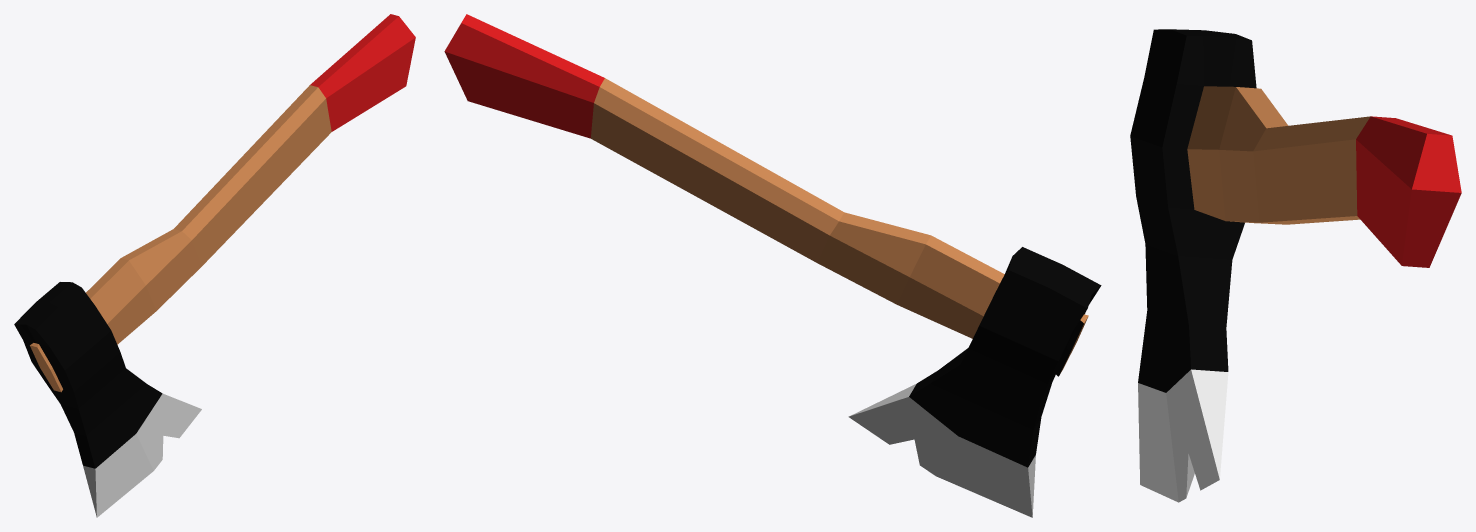
Rendered from axe.fbx.
The picture shows the model from 3 angles, left to right: view 1: azimuth 30°, elevation 25°; view 2: azimuth 150°, elevation 25°; view 3: azimuth 270°, elevation 25°; orthographic projection. The views are drawn at different scales.
Parts seen in each view (by area): view 1: Plane; view 2: Plane; view 3: Plane.
Part boxes in pixels (x1,y1,x2,y2): Plane: [14, 14, 415, 517]; Plane: [444, 14, 1101, 517]; Plane: [1130, 29, 1461, 502].
Bounding box in the file's own units: 97.46 × 74.1 × 31.09.
